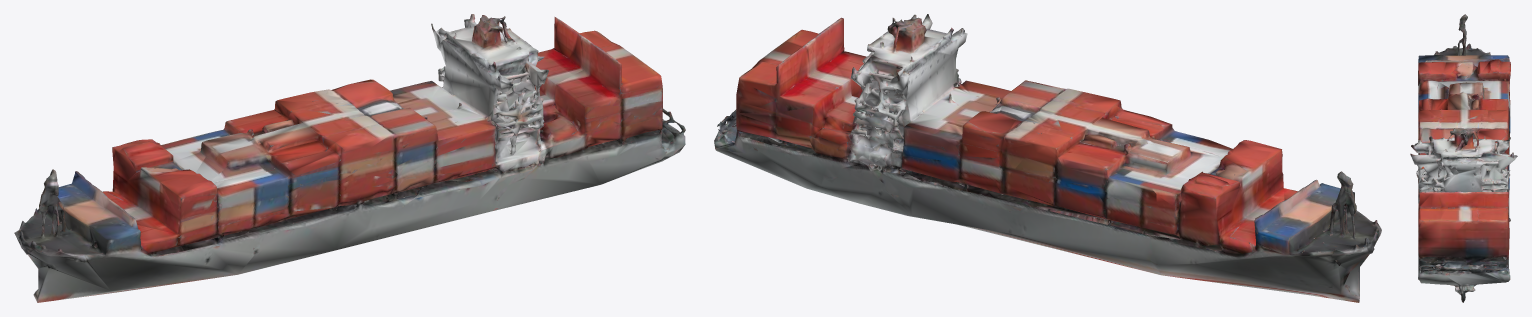
File: ship.glb
The picture shows the model from 3 angles, left to right: view 1: azimuth 30°, elevation 25°; view 2: azimuth 150°, elevation 25°; view 3: azimuth 270°, elevation 25°; orthographic projection. The views are drawn at different scales.
Size of the model in its own units: 2 by 0.5425 by 0.4292.
Materials: 1 (1 with a texture image).
